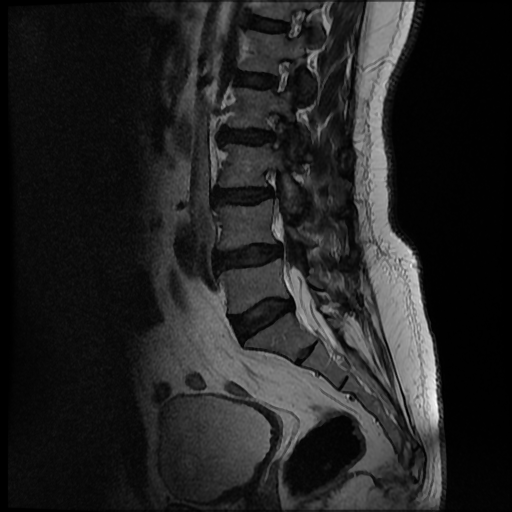RFS0: (259, 48, 302, 106)
RFS3: (255, 107, 298, 165)
